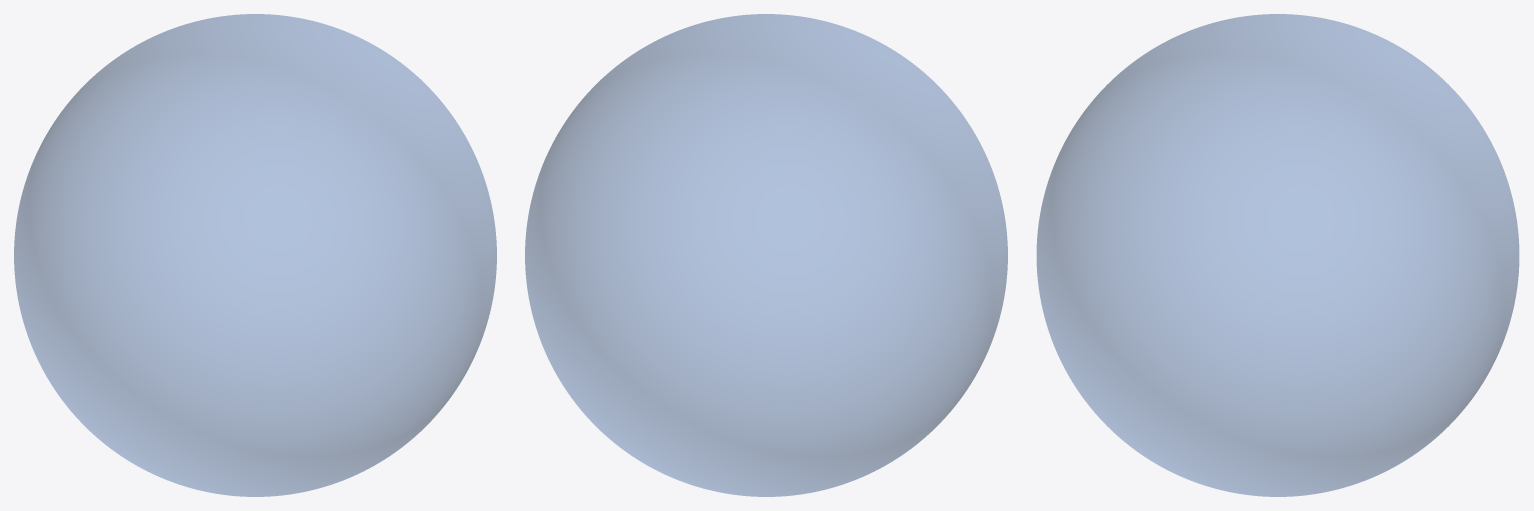
Rendered from qiu.FBX.
3 views of the same model, side by side, from view 1: azimuth 30°, elevation 25°; view 2: azimuth 150°, elevation 25°; view 3: azimuth 270°, elevation 25° (orthographic).
Parts seen in each view (by area): view 1: Globe Sea; view 2: Globe Sea; view 3: Globe Sea.
Part boxes in pixels (x1,y1,x2,y2): Globe Sea: [14, 14, 496, 496]; Globe Sea: [525, 14, 1007, 496]; Globe Sea: [1036, 14, 1519, 496].
Size of the model in its own units: 572 by 572 by 572.
